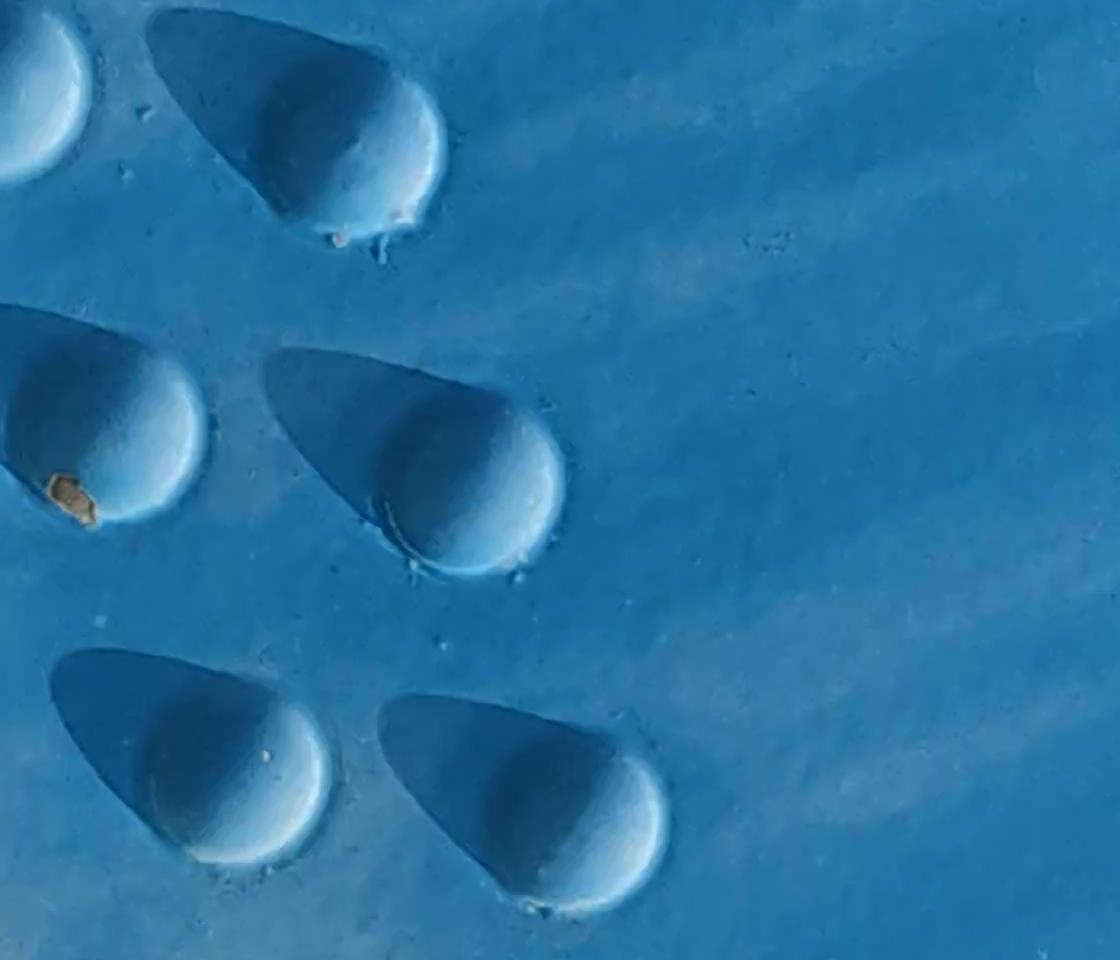paint_peel: (38, 470, 108, 537)
